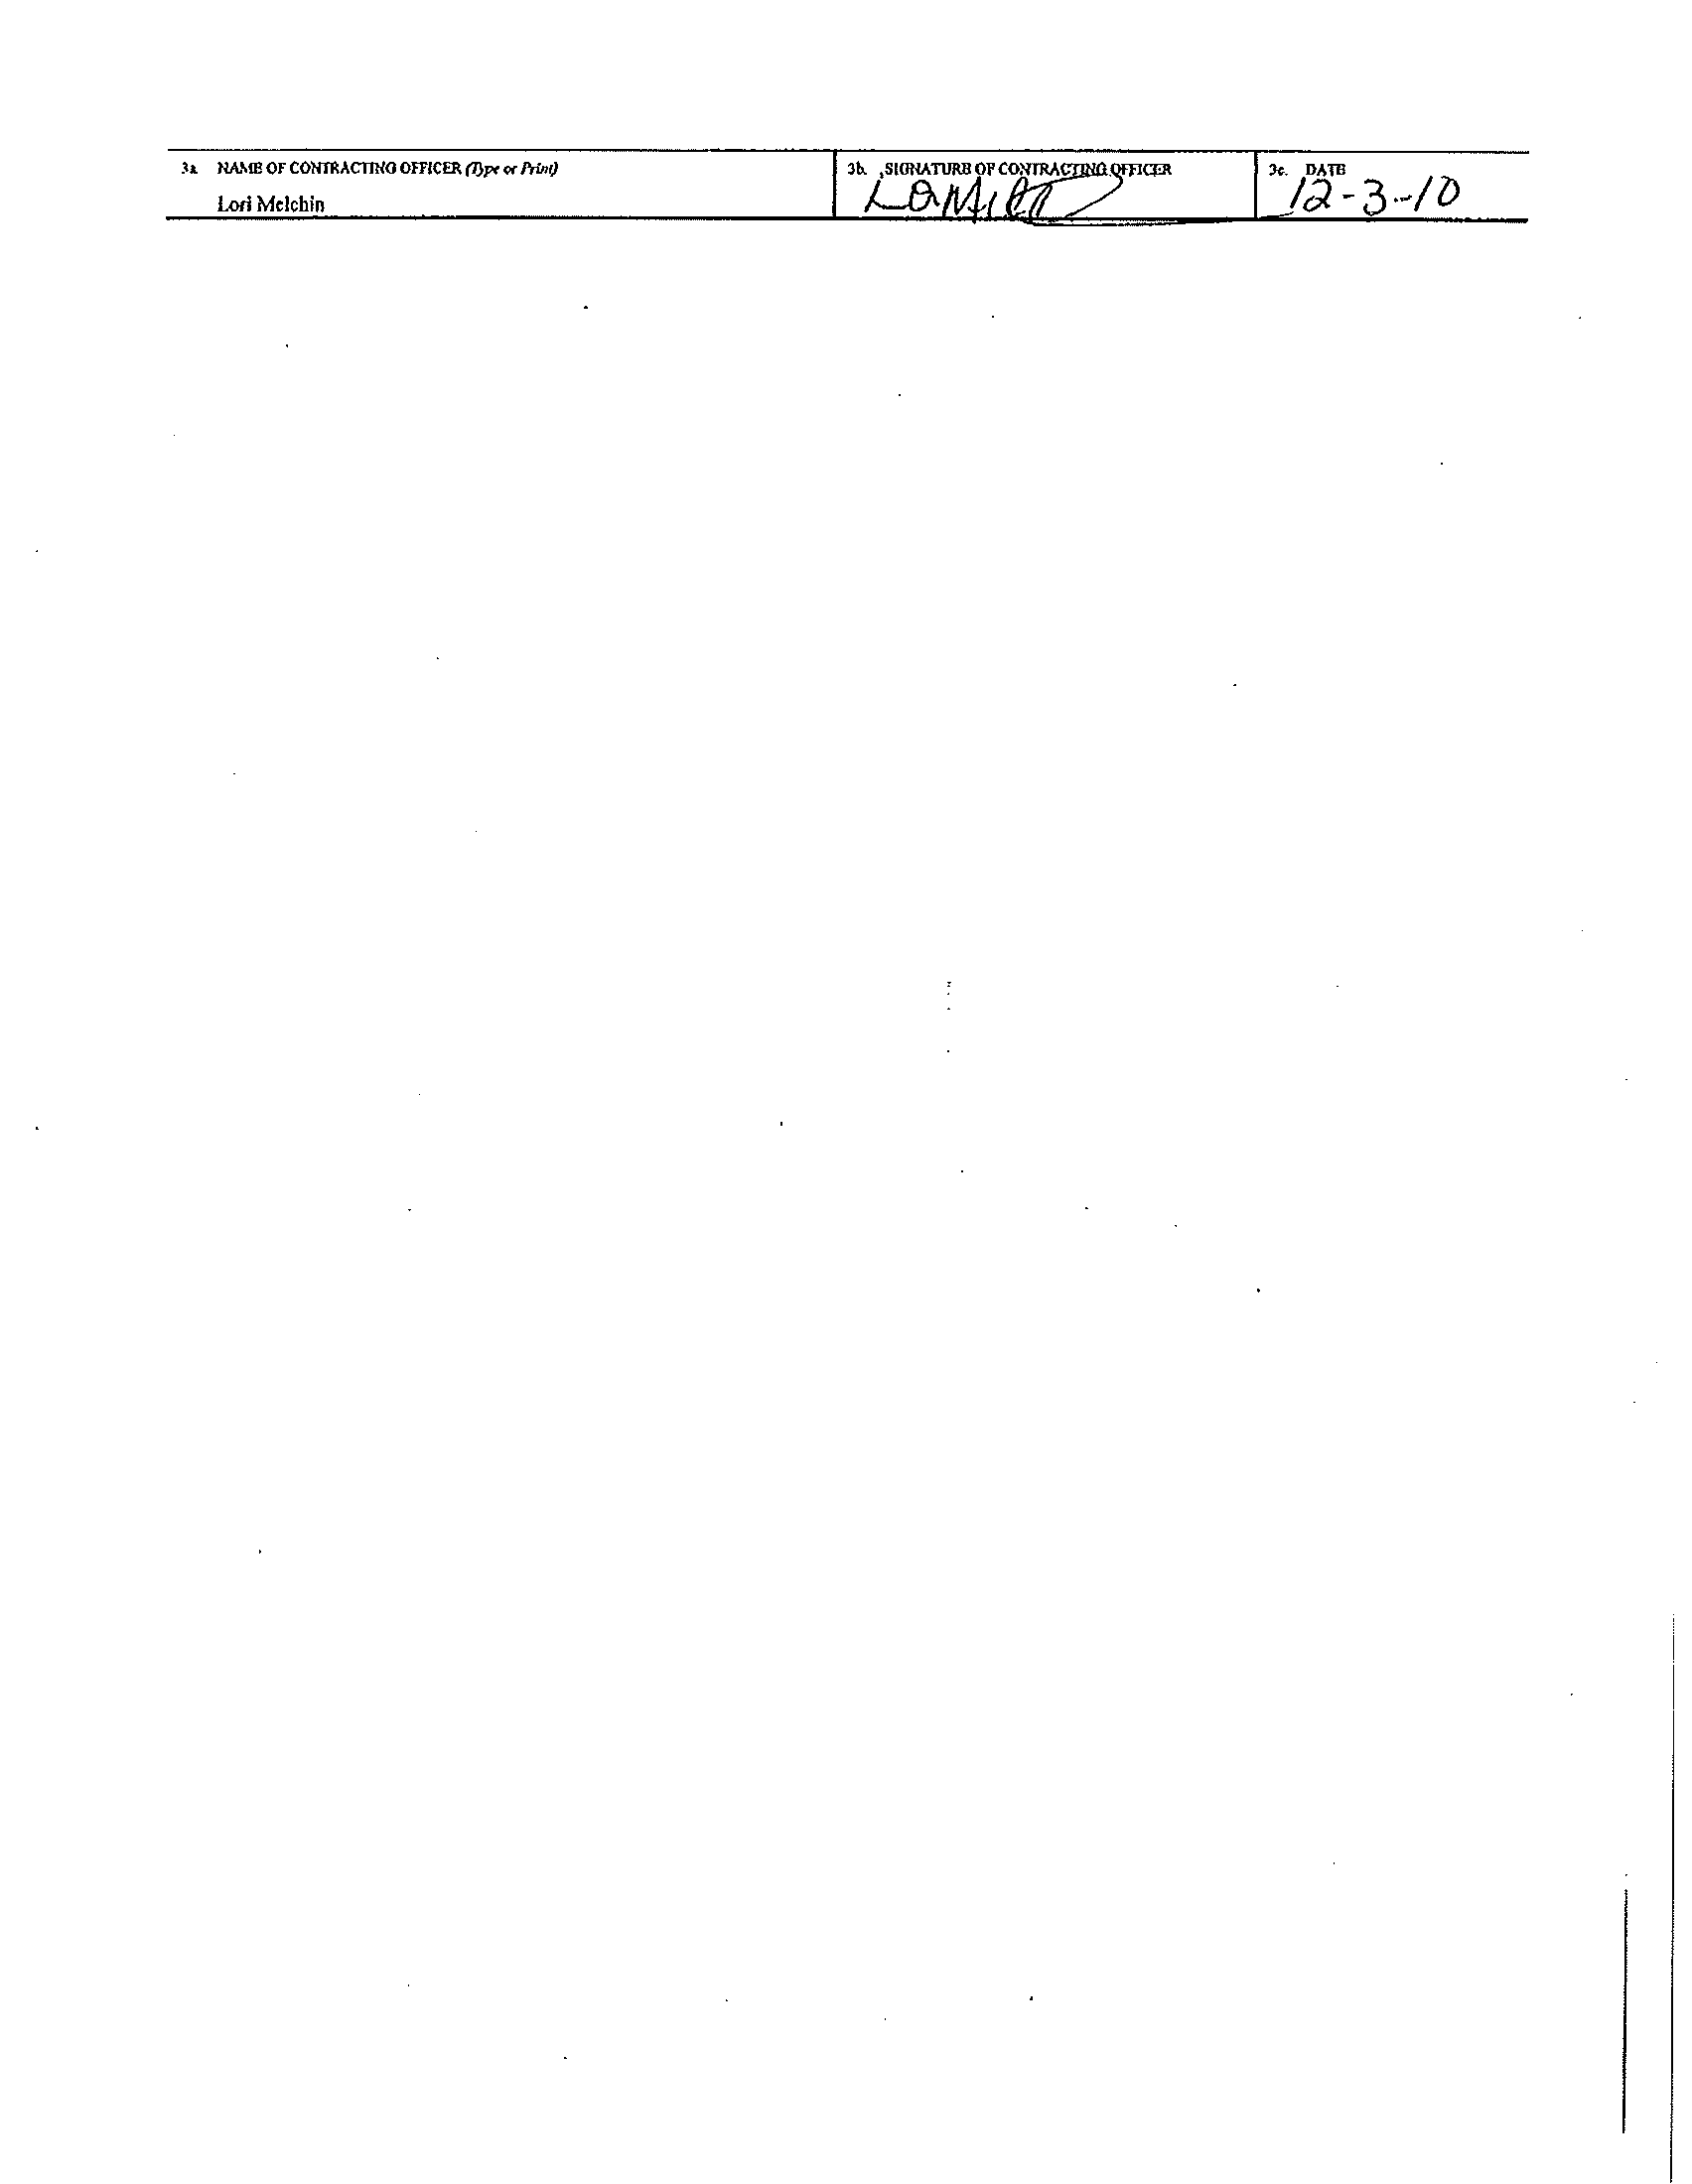handwritten: (844, 161, 1160, 243), (1268, 161, 1516, 243)
